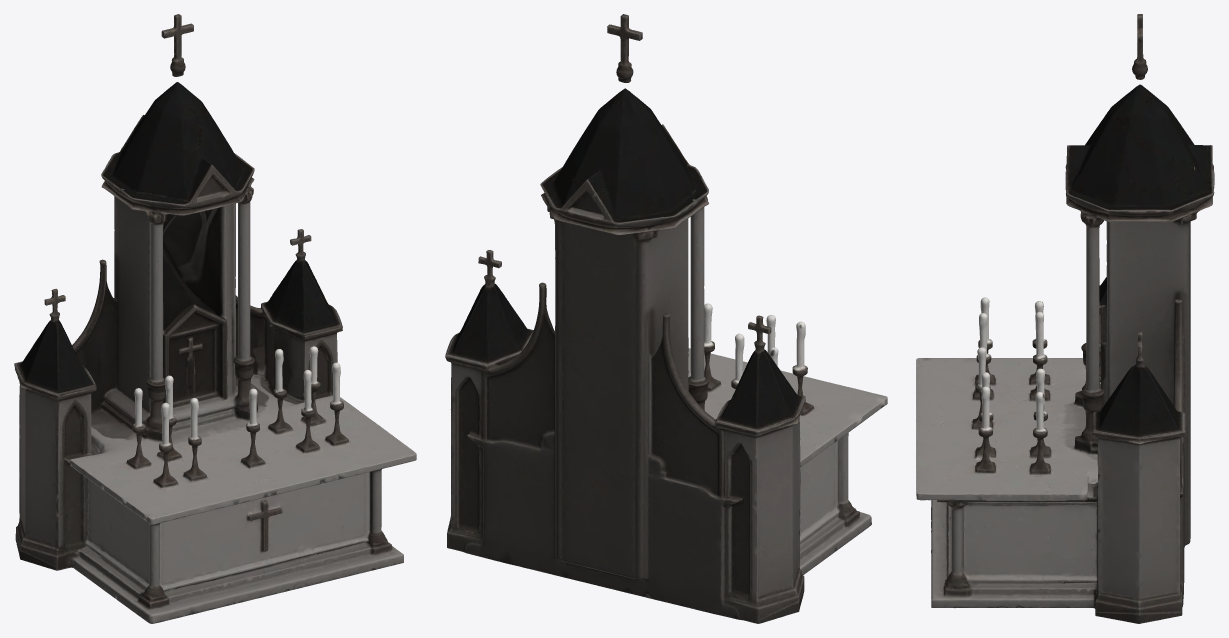
The model's file is sanctuary.glb.
The picture shows the model from 3 angles, left to right: view 1: azimuth 30°, elevation 25°; view 2: azimuth 150°, elevation 25°; view 3: azimuth 270°, elevation 25°; orthographic projection. The views are drawn at different scales.
Parts seen in each view (by area): view 1: mesh_node; view 2: mesh_node; view 3: mesh_node.
Part boxes in pixels (x1,y1,x2,y2): mesh_node: [14, 14, 416, 623]; mesh_node: [445, 14, 887, 623]; mesh_node: [916, 14, 1214, 623].
Size of the model in its own units: 1.24 by 1.9 by 0.9718.
1 material, 1 textured.
